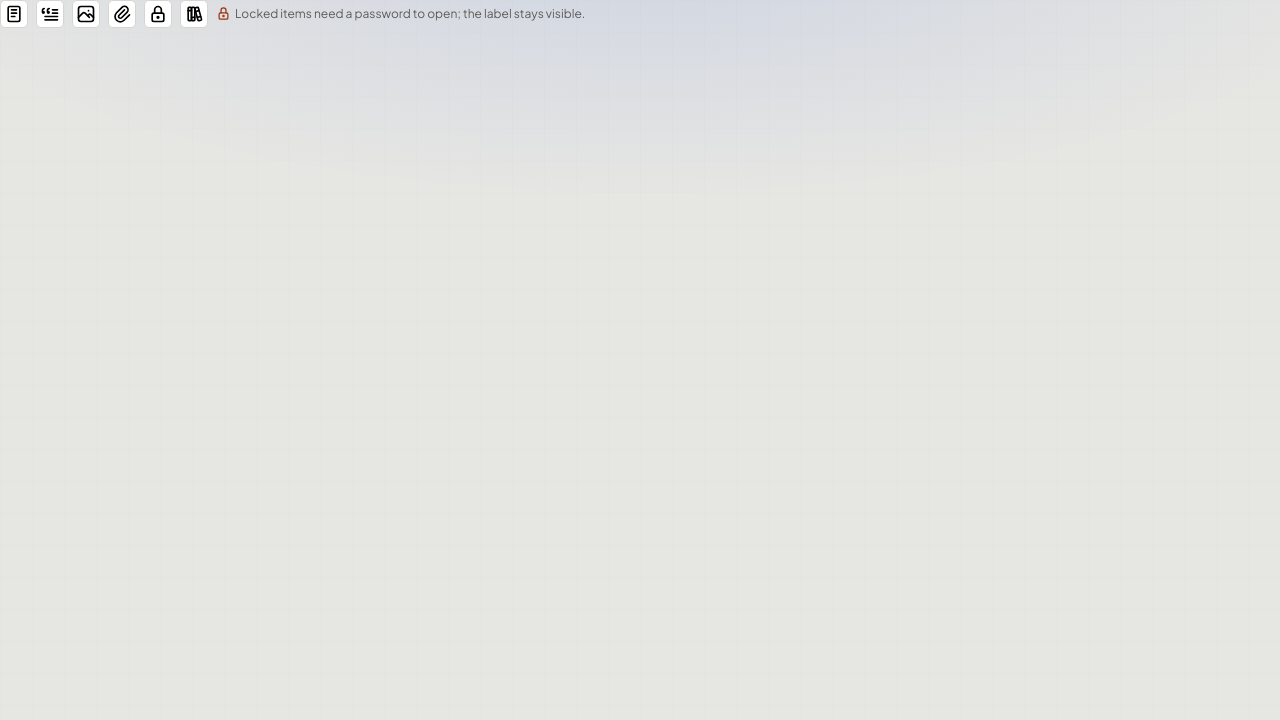
Test: AddItemBar — the from-library sheet (PLAN.md §9, §16 Phase 5, D8) › reports a failed send in the sheet instead of losing it
This screenshot has width=1280, height=720.
Click the button named "Send from library".
click(194, 14)  # box [180, 0, 208, 28]
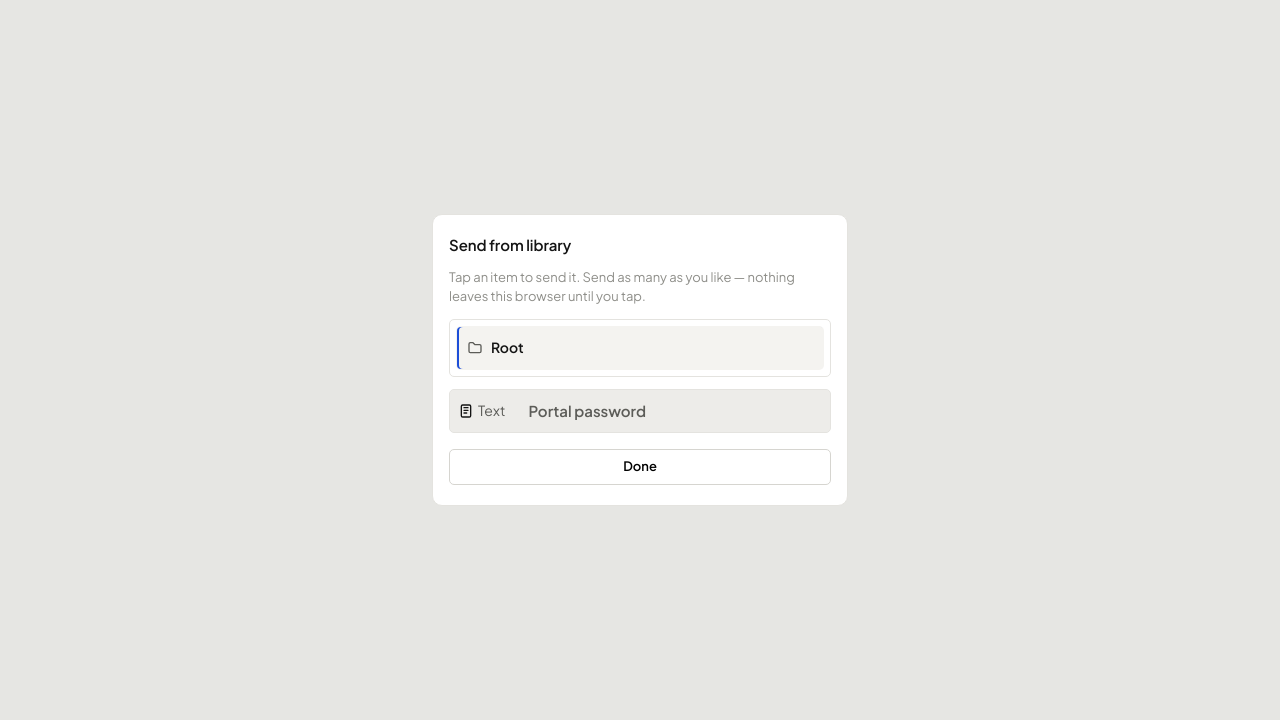
Click the button with class "library-send__item".
click(587, 411)  # box [514, 396, 822, 426]
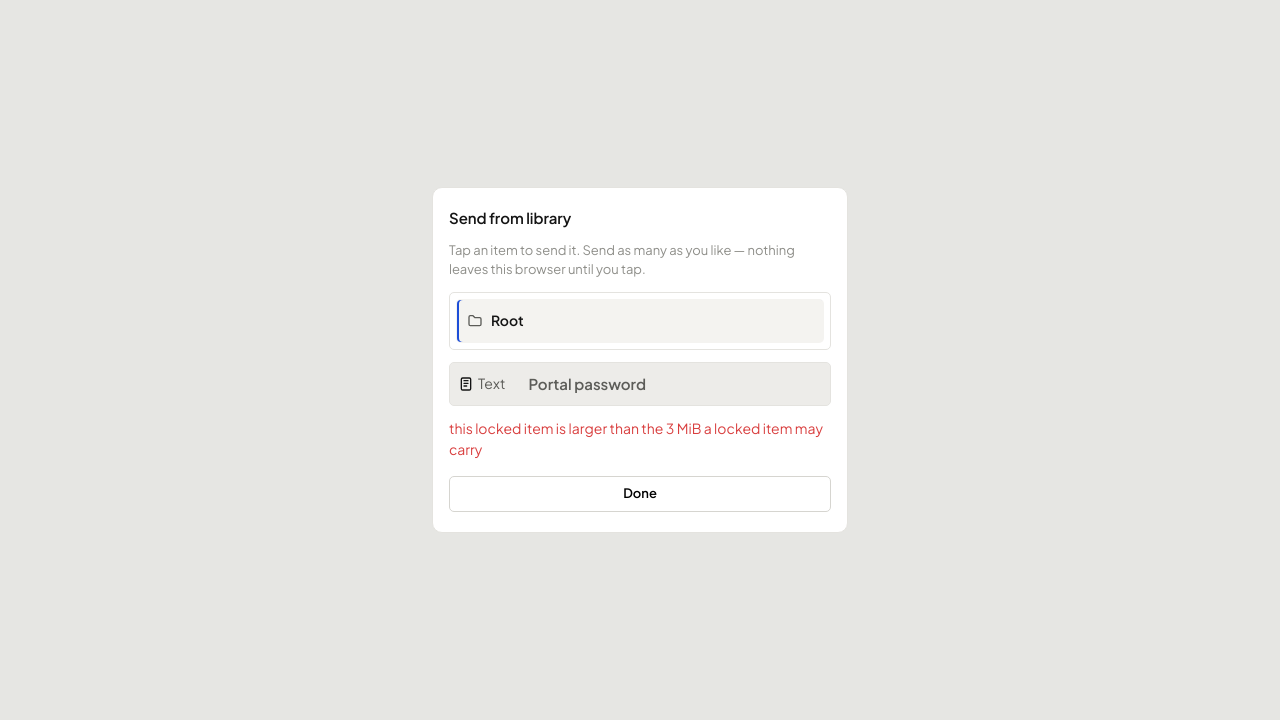
Check: the dialog with class "library-modal--send" is shown
Check: the message with class "library-modal__error" shows "3 MiB", box [449, 419, 823, 458]
